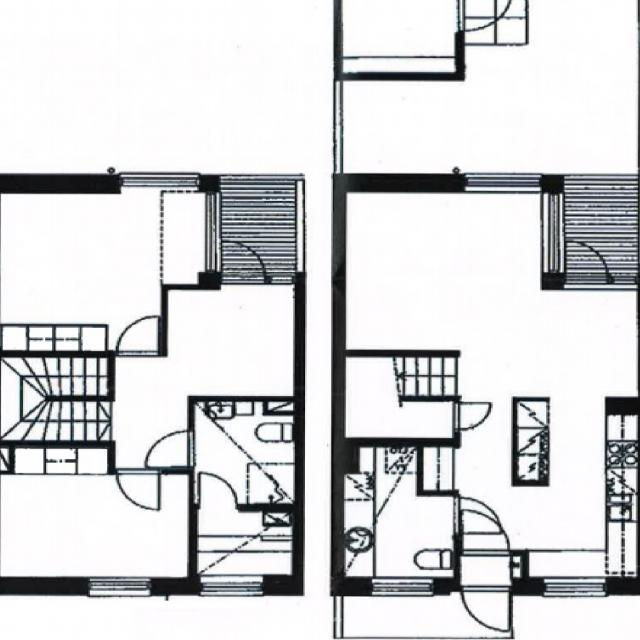door: (462, 579, 510, 633), (222, 236, 265, 290), (566, 237, 608, 291), (463, 511, 509, 556), (118, 469, 160, 511), (146, 431, 194, 467), (455, 499, 503, 534), (118, 317, 160, 357), (456, 0, 510, 30), (200, 472, 238, 511), (452, 404, 492, 431)
